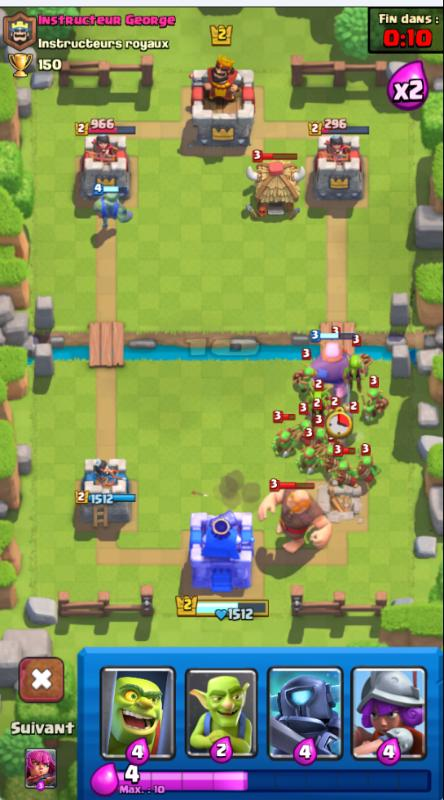geant: (257, 479, 334, 561), (305, 327, 357, 400)
gobelin: (347, 350, 366, 390), (306, 381, 332, 405), (310, 400, 328, 421), (345, 399, 359, 426), (329, 398, 342, 419)
gobelin_lances: (357, 450, 384, 487), (365, 388, 389, 426), (270, 427, 297, 459), (297, 444, 321, 475), (330, 462, 355, 489), (324, 445, 345, 473), (312, 425, 331, 455), (295, 364, 313, 393), (297, 419, 311, 444), (357, 350, 370, 375)
